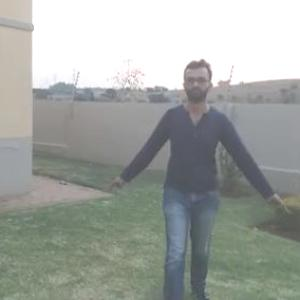land: (104, 45, 285, 282)
